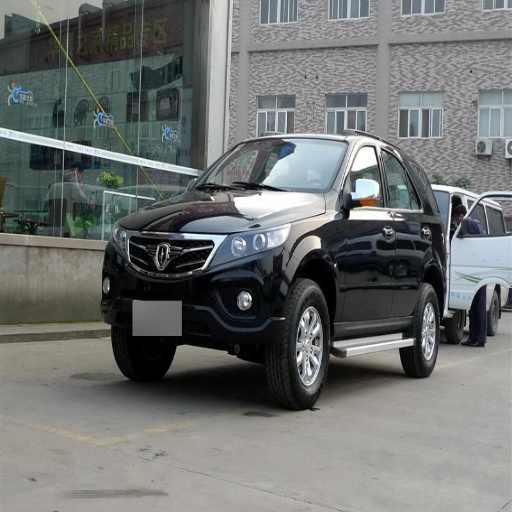front_bumper: (113, 229, 285, 345)
front_glass: (193, 139, 347, 193)
front_left_door: (338, 140, 394, 331)
